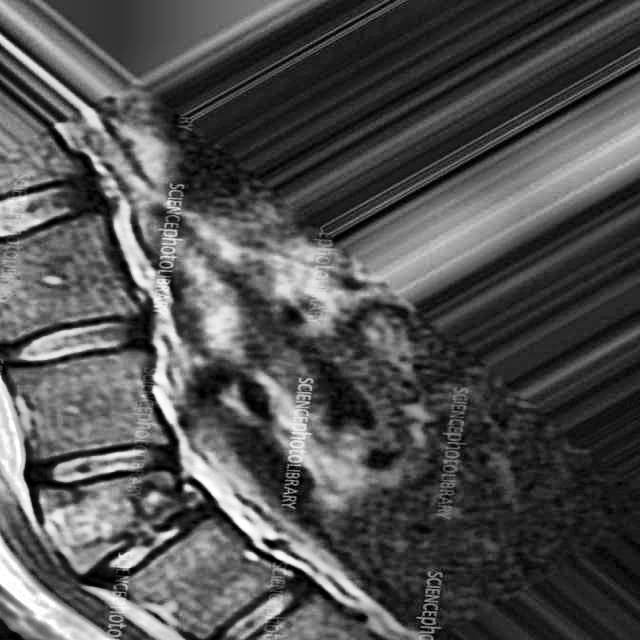Comminuted: (31, 446, 210, 594)
